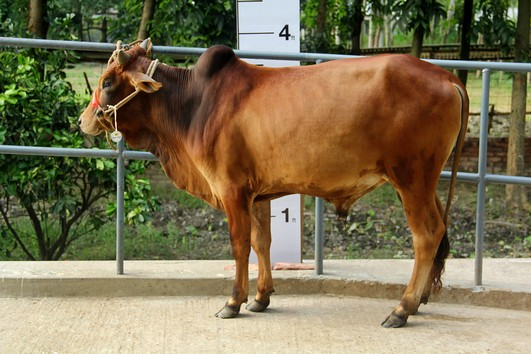cow: (75, 31, 469, 331)
